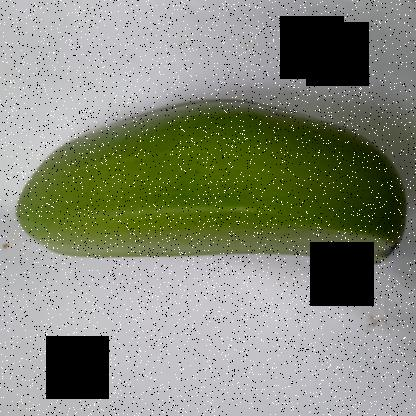freshunripe: (8, 81, 416, 280)
